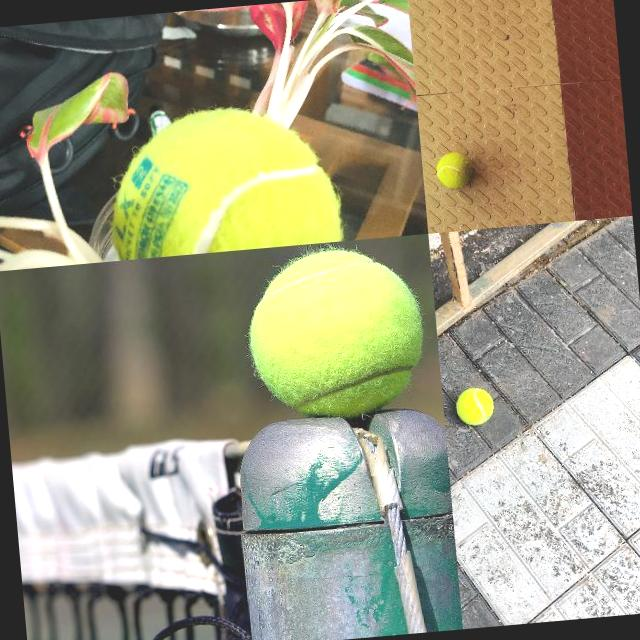Tennis Ball: (102, 98, 342, 260), (241, 241, 430, 422), (454, 386, 494, 426), (435, 150, 473, 188)
